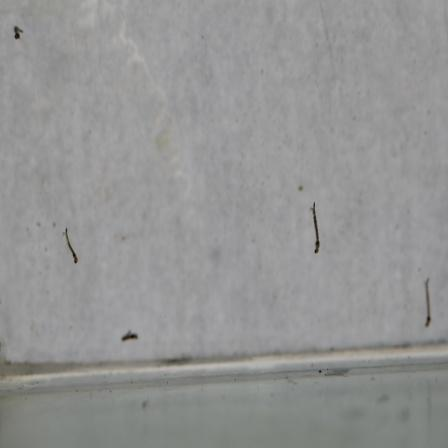Jentik-Nyamuk: (308, 200, 323, 258), (62, 225, 82, 268), (421, 276, 435, 330), (117, 326, 142, 345), (11, 22, 27, 44)
